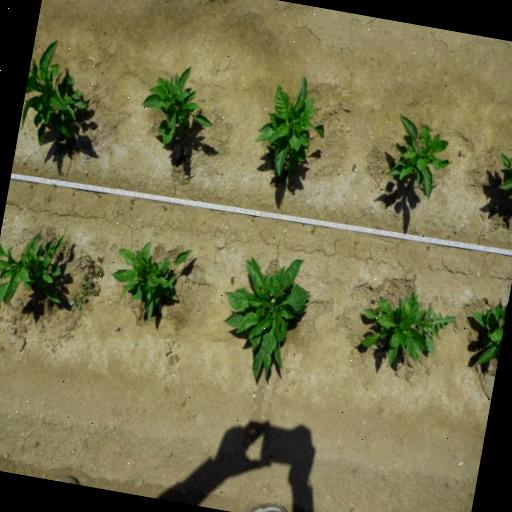plant: (217, 245, 320, 392), (244, 64, 341, 192), (16, 32, 104, 156), (134, 50, 228, 157), (102, 232, 200, 332), (376, 107, 462, 211), (0, 219, 73, 319), (354, 288, 426, 370), (459, 292, 508, 372), (485, 125, 512, 206)
weed: (66, 248, 110, 318), (420, 300, 462, 358), (228, 274, 236, 286), (310, 223, 316, 235), (160, 203, 168, 212), (129, 196, 135, 205)
